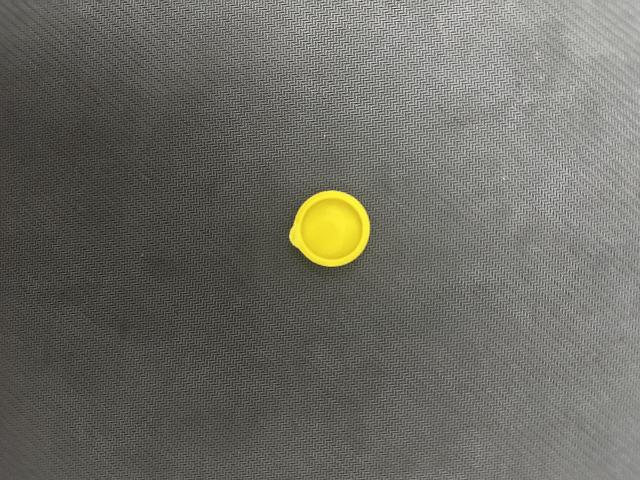Plastik: (287, 184, 378, 270)
